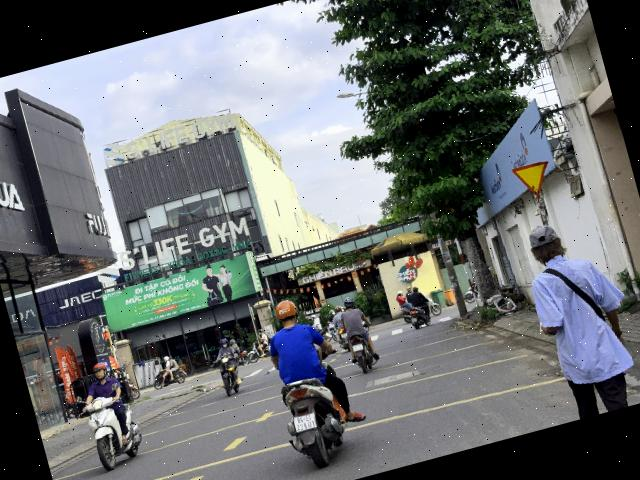giao-nhau-voi-duong-uu-tien: (511, 158, 557, 202)
